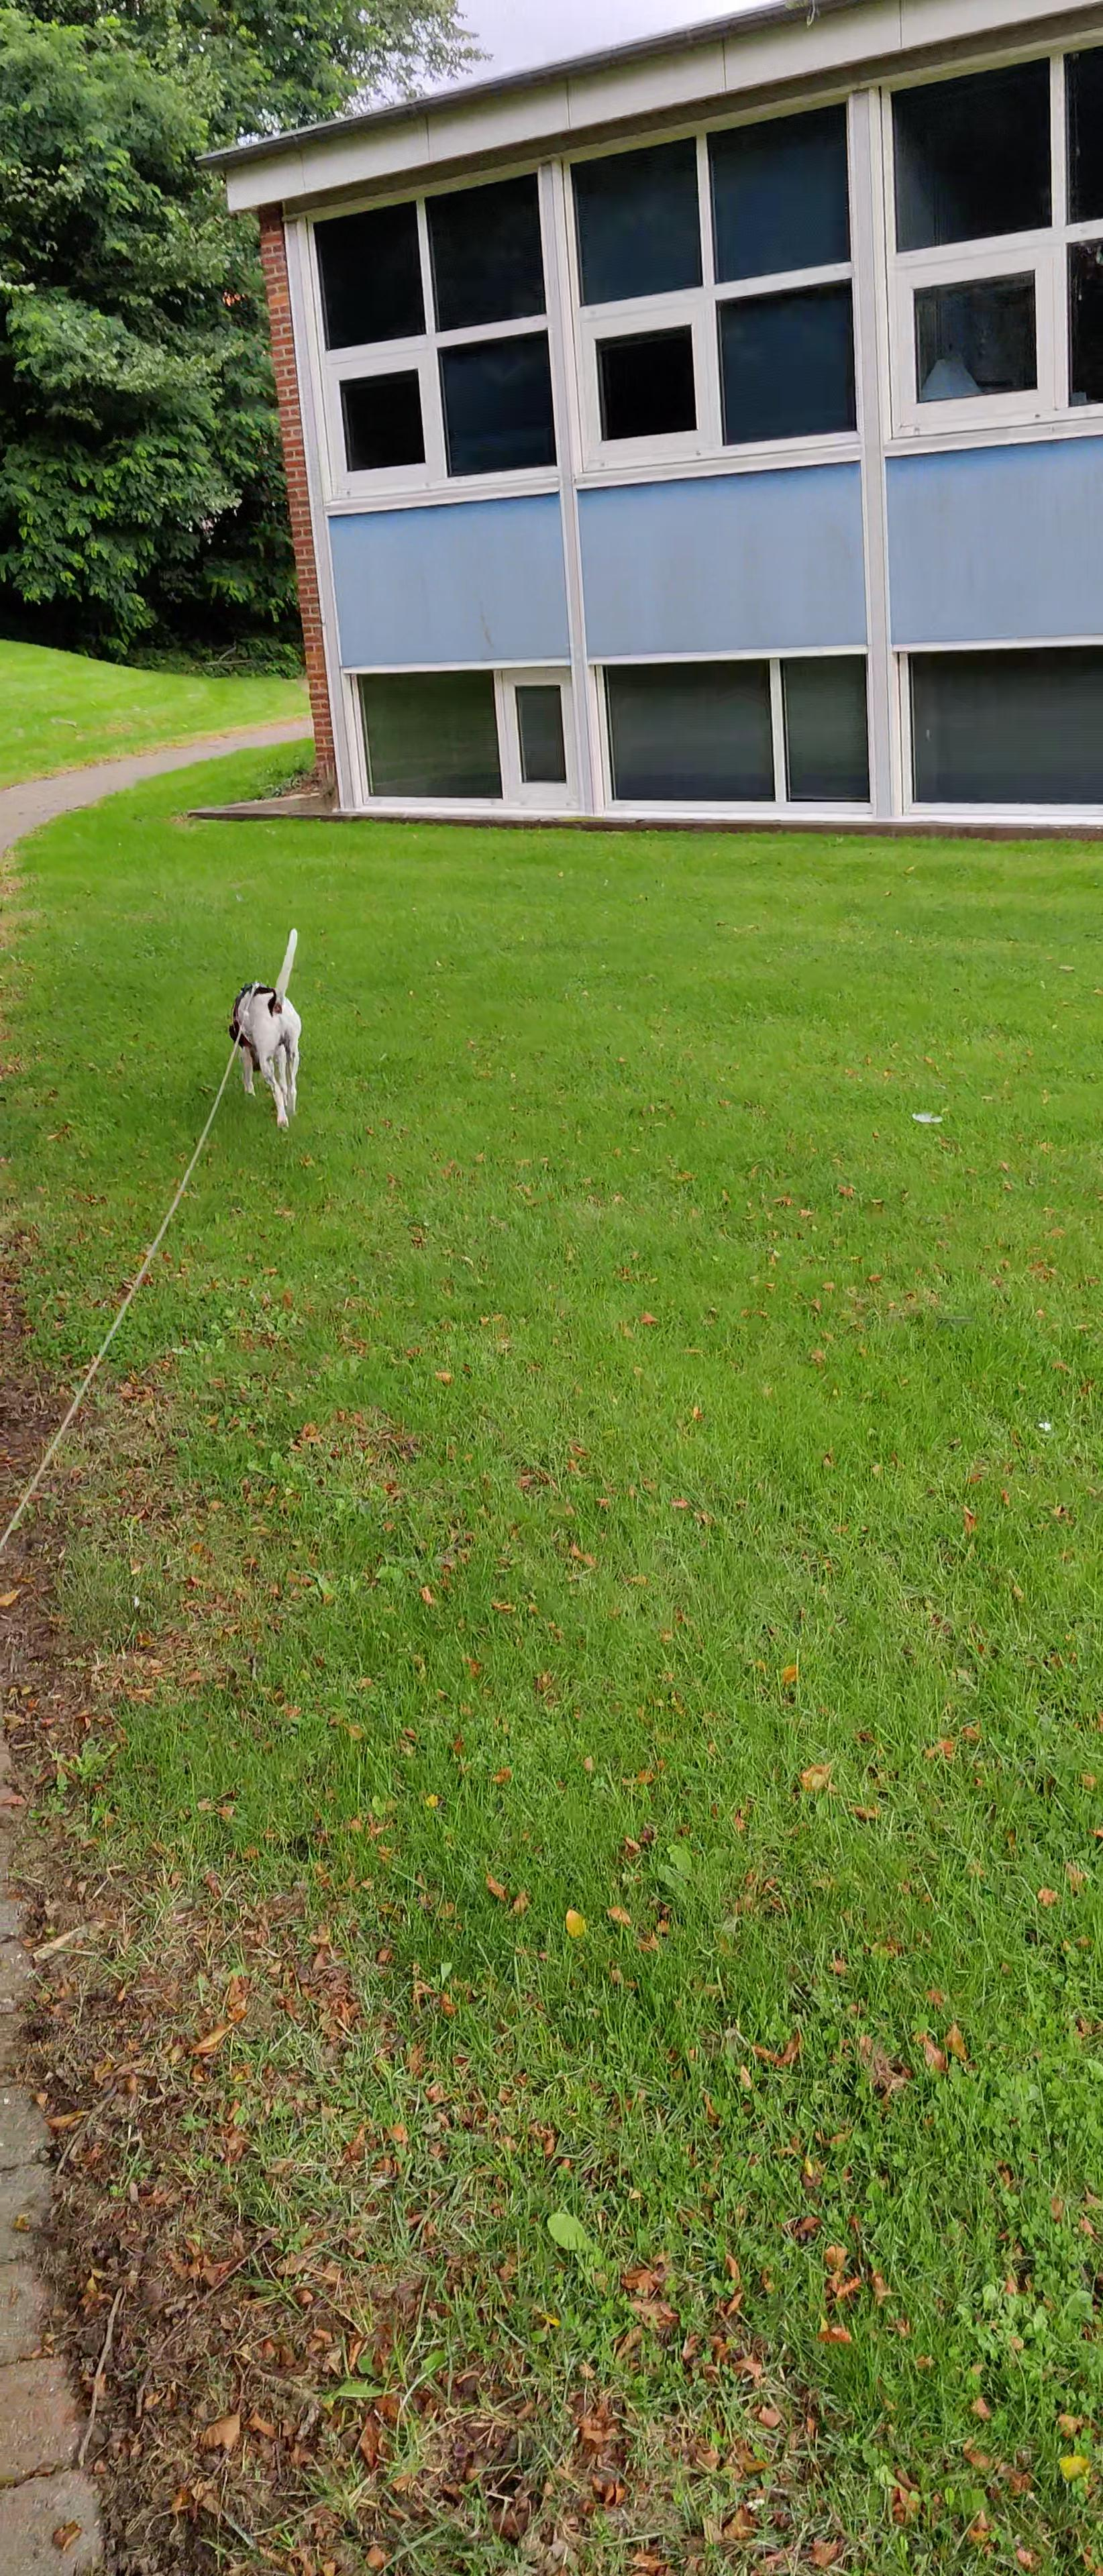Dog: (225, 925, 311, 1138)
